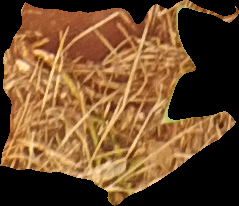soil: (2, 1, 238, 205)
